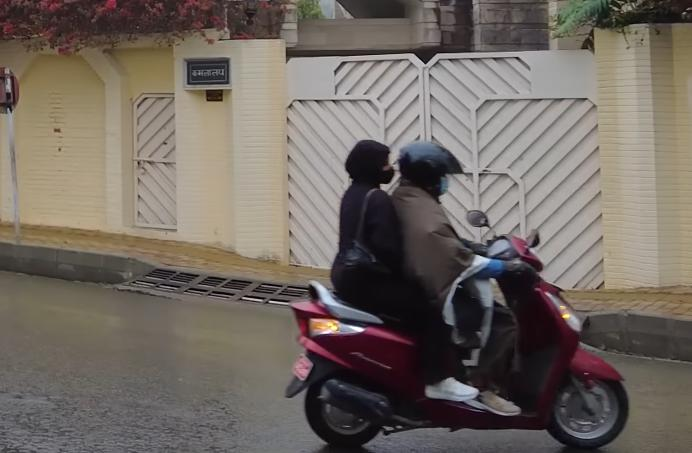scooter: (272, 208, 639, 453)
